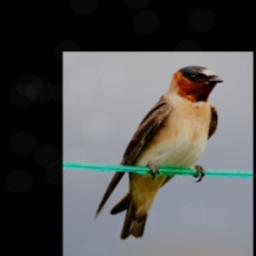Swallow: (93, 65, 224, 240)
